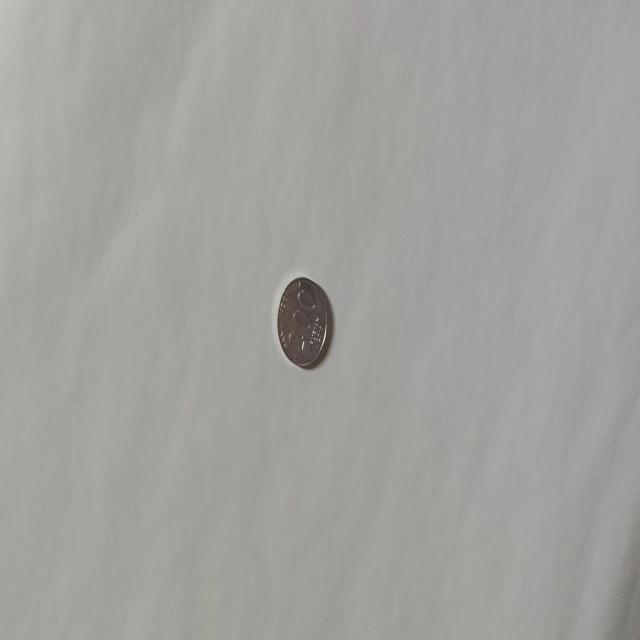dua ratus rupiah: (276, 275, 328, 368)
